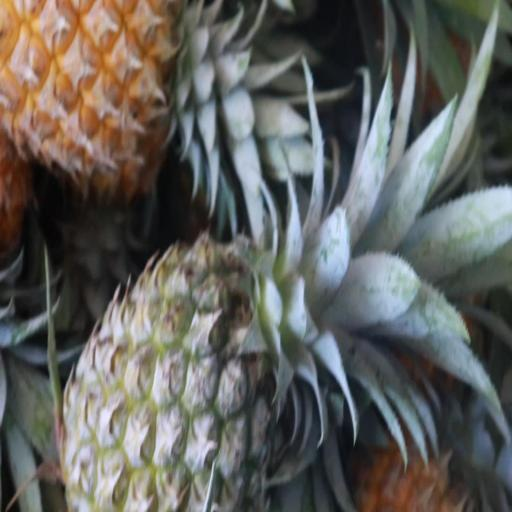------------------------------: (62, 228, 308, 512)
Pineapple - v8 v1: (2, 0, 204, 175)
